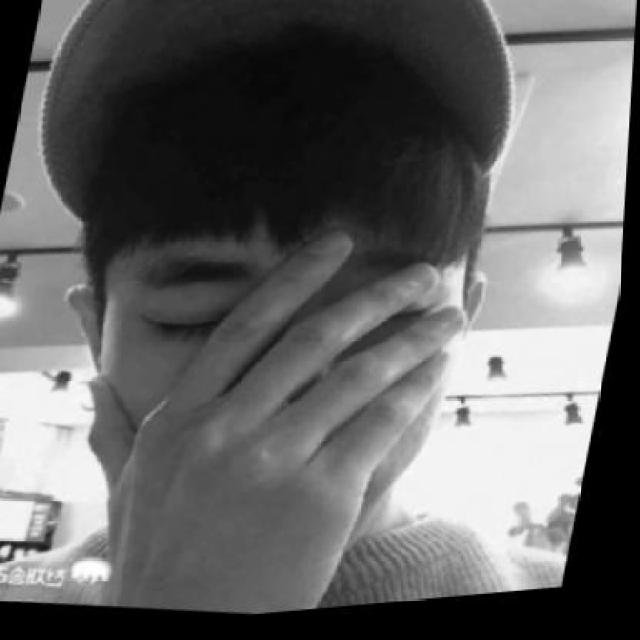hat: (12, 0, 546, 283)
